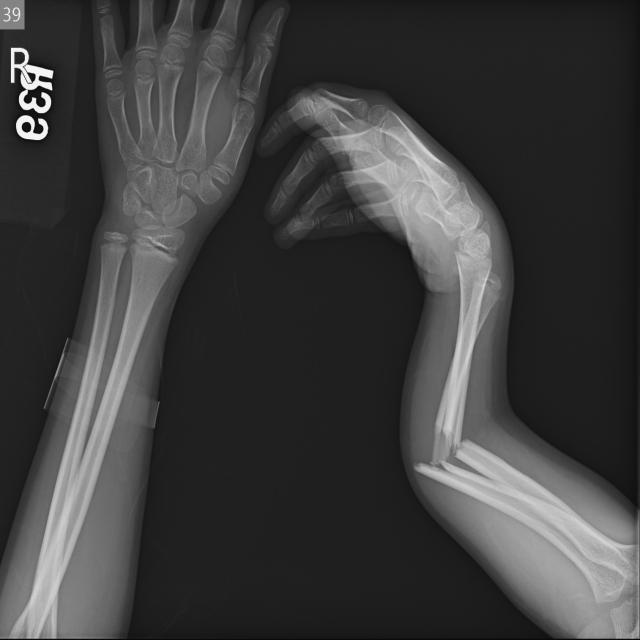fractured: (396, 397, 514, 516)
